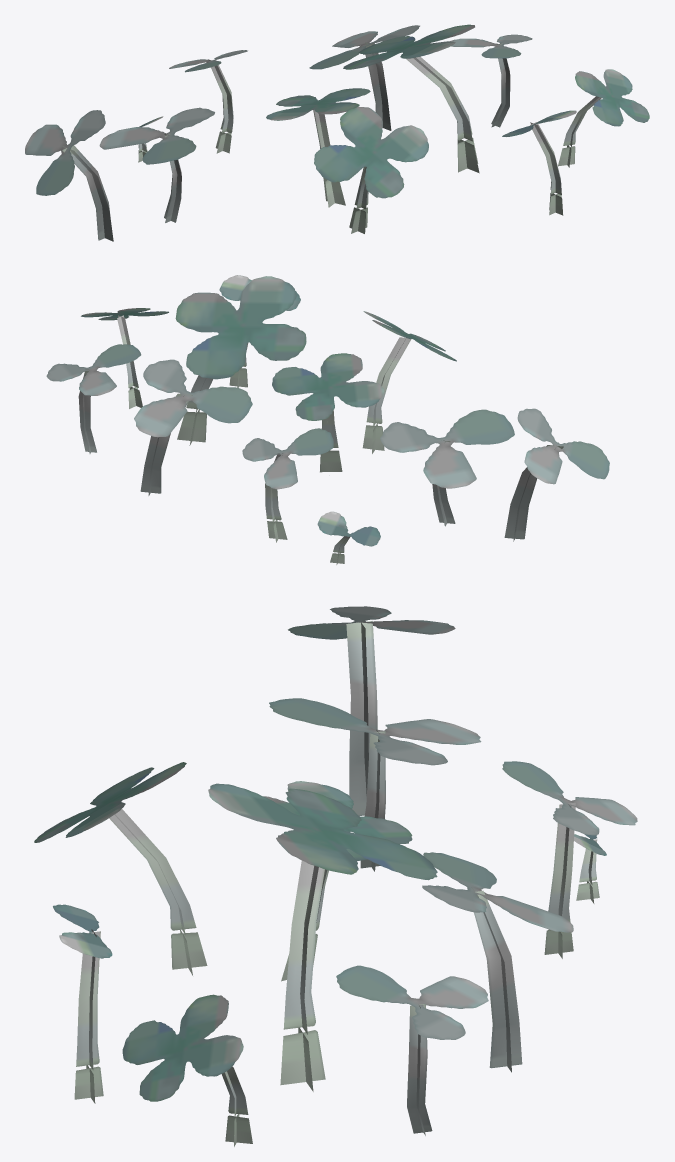
Rendered from pref_sm_beach_winter_techclover02_lv3.fbx.
3 renders of one model, top to bottom at view 1: azimuth 30°, elevation 25°; view 2: azimuth 150°, elevation 25°; view 3: azimuth 270°, elevation 25°, orthographic. The views are drawn at different scales.
Parts seen in each view (by area): view 1: pref_sm_beach_winter_techclover02_lv3; view 2: pref_sm_beach_winter_techclover02_lv3; view 3: pref_sm_beach_winter_techclover02_lv3.
Boxes of the visible parts, <box> form: pref_sm_beach_winter_techclover02_lv3: <box>25,24,649,241</box>; pref_sm_beach_winter_techclover02_lv3: <box>46,275,609,564</box>; pref_sm_beach_winter_techclover02_lv3: <box>34,606,637,1146</box>.
Size of the model in its own units: 2.5 by 0.6378 by 1.47.
